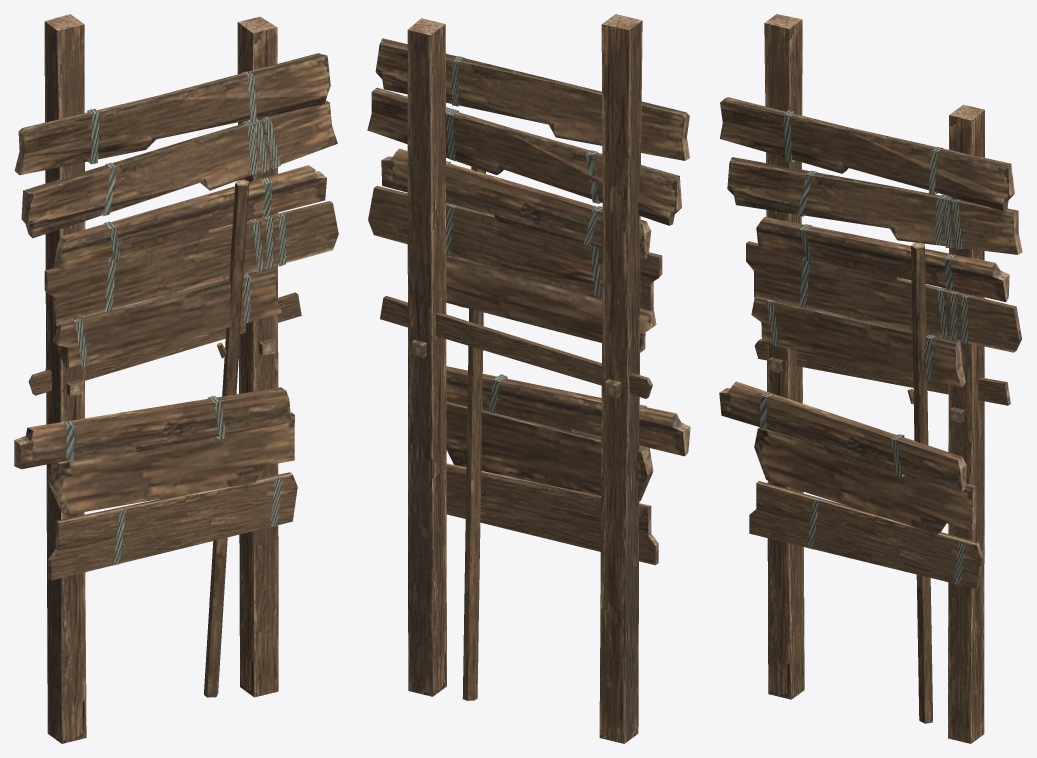
File: environment_stone_shitai_001_a.FBX
The picture shows the model from 3 angles, left to right: view 1: azimuth 30°, elevation 25°; view 2: azimuth 150°, elevation 25°; view 3: azimuth 330°, elevation 25°; orthographic projection. The views are drawn at different scales.
Parts seen in each view (by area): view 1: environment_stone_shitai_001_a; view 2: environment_stone_shitai_001_a; view 3: environment_stone_shitai_001_a.
Part boxes in pixels (x1,y1,x2,y2): environment_stone_shitai_001_a: (14, 14, 338, 743); environment_stone_shitai_001_a: (367, 14, 690, 743); environment_stone_shitai_001_a: (719, 14, 1022, 743).
Bounding box in the file's own units: 307 × 657 × 55.82.
